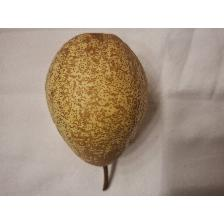Birne: (43, 32, 152, 194)
